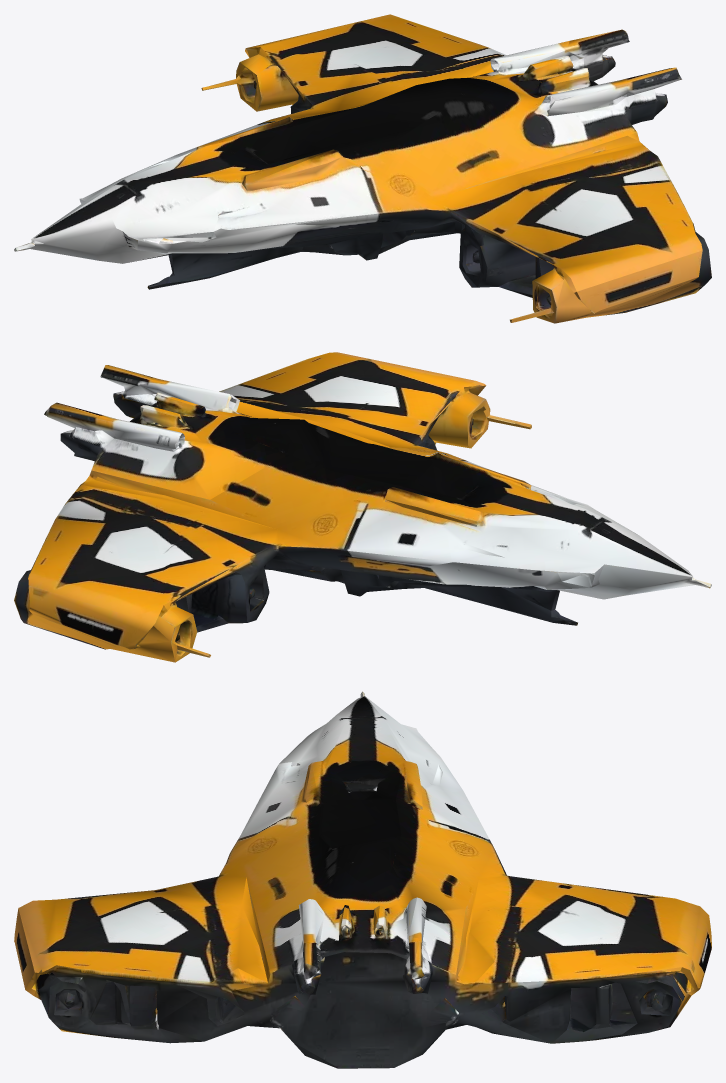
The model's file is goldian.glb.
The picture shows the model from 3 angles, top to bottom: view 1: azimuth 30°, elevation 25°; view 2: azimuth 150°, elevation 25°; view 3: azimuth 270°, elevation 25°; orthographic projection. The views are drawn at different scales.
Visible parts, largest first — view 1: Mesh0; view 2: Mesh0; view 3: Mesh0.
Part boxes in pixels (box(x1,y1,x2,y2)): Mesh0: box(14, 14, 711, 323); Mesh0: box(14, 352, 711, 662); Mesh0: box(14, 691, 711, 1068).
Size of the model in its own units: 1.91 by 0.4054 by 1.75.
Materials: 1 (1 with a texture image).
